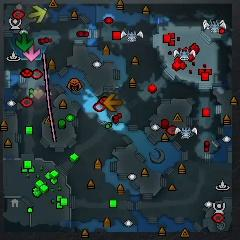x1: (23, 43, 41, 61)
x2: (28, 5, 47, 24)
x4: (16, 33, 33, 52)
x5: (104, 93, 123, 111)
